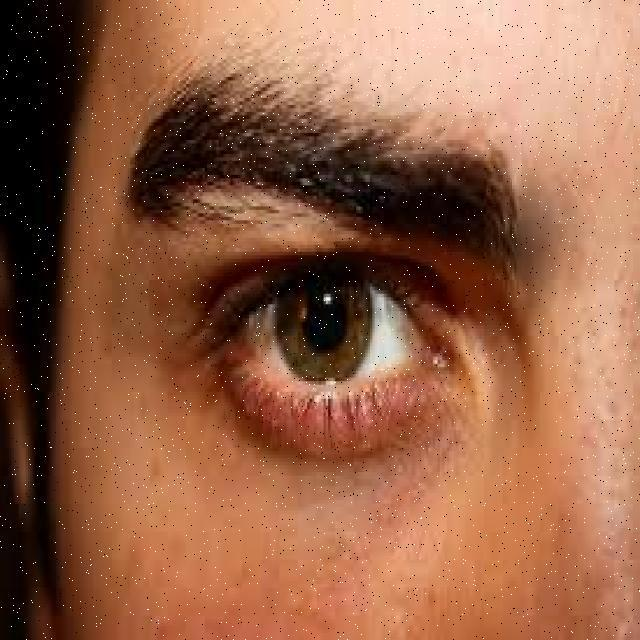Normal: (32, 211, 638, 528)
